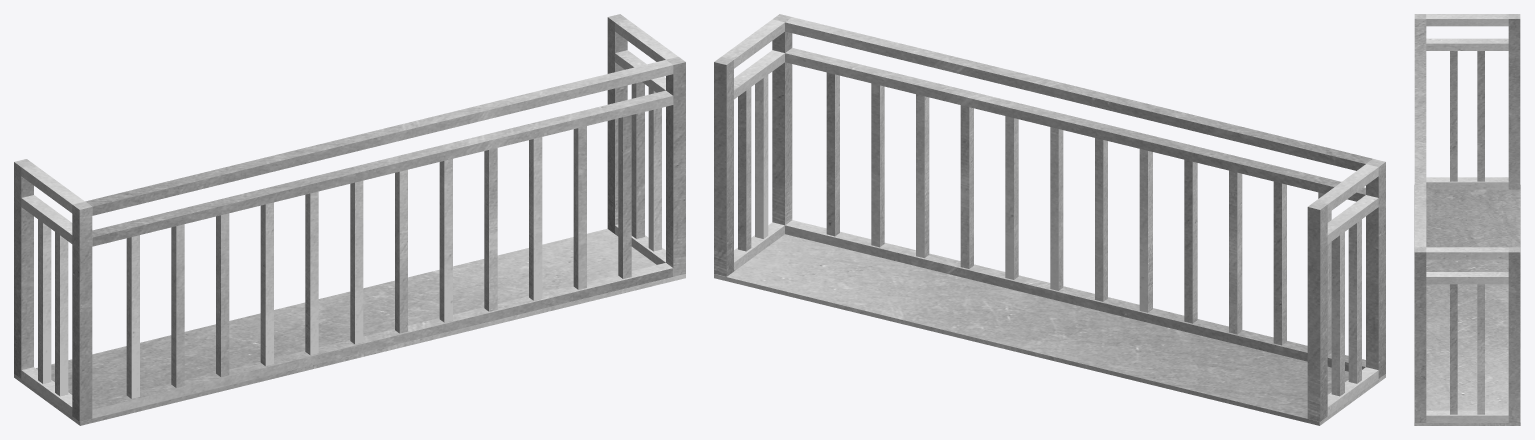
File: Balcony_001.fbx
3 views of the same model, side by side, from view 1: azimuth 30°, elevation 25°; view 2: azimuth 150°, elevation 25°; view 3: azimuth 270°, elevation 25° (orthographic). The views are drawn at different scales.
Visible parts, largest first — view 1: Balcony_001; view 2: Balcony_001; view 3: Balcony_001.
Boxes of the visible parts, box(x1,y1,x2,y2) form: Balcony_001: box(14, 14, 685, 425); Balcony_001: box(714, 14, 1385, 425); Balcony_001: box(1414, 14, 1520, 425).
Bounding box in the file's own units: 170 × 58.03 × 32.16.
1 material, 1 textured.
